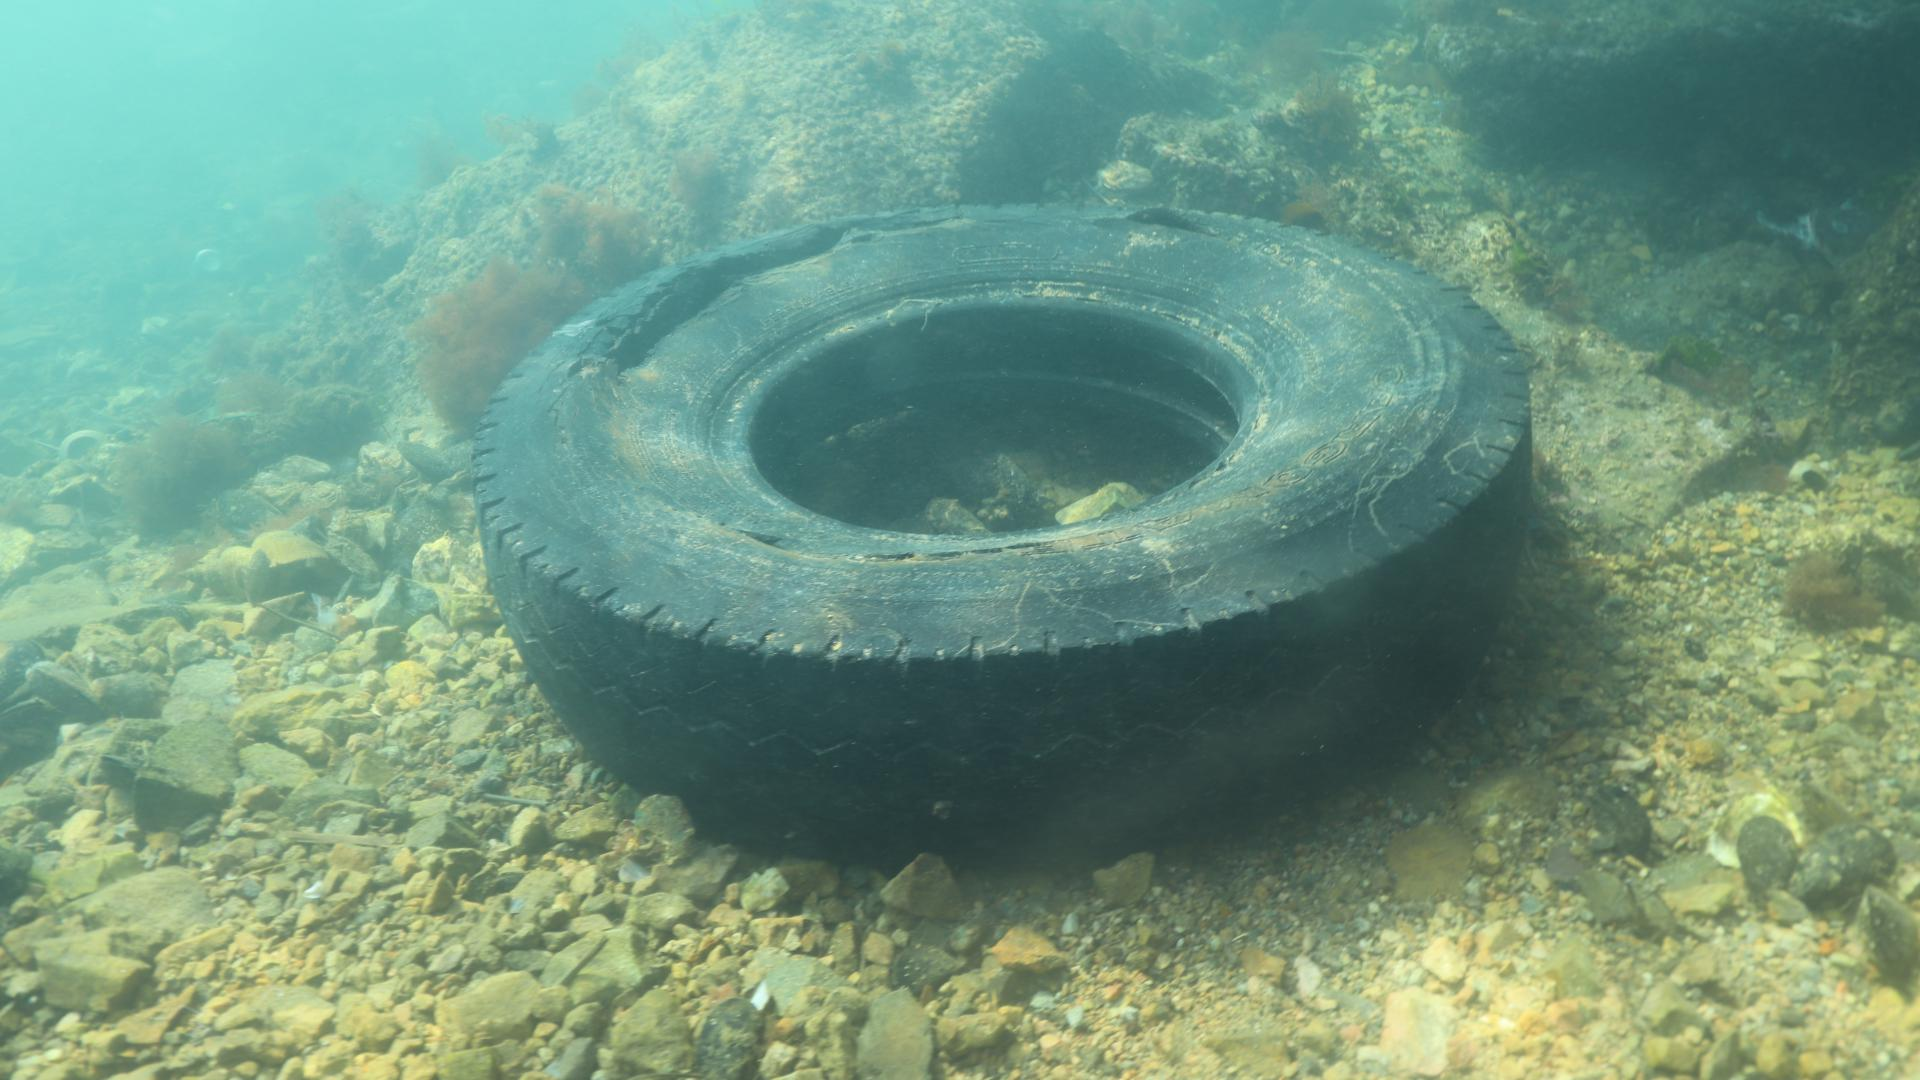tire: (465, 196, 1535, 858)
